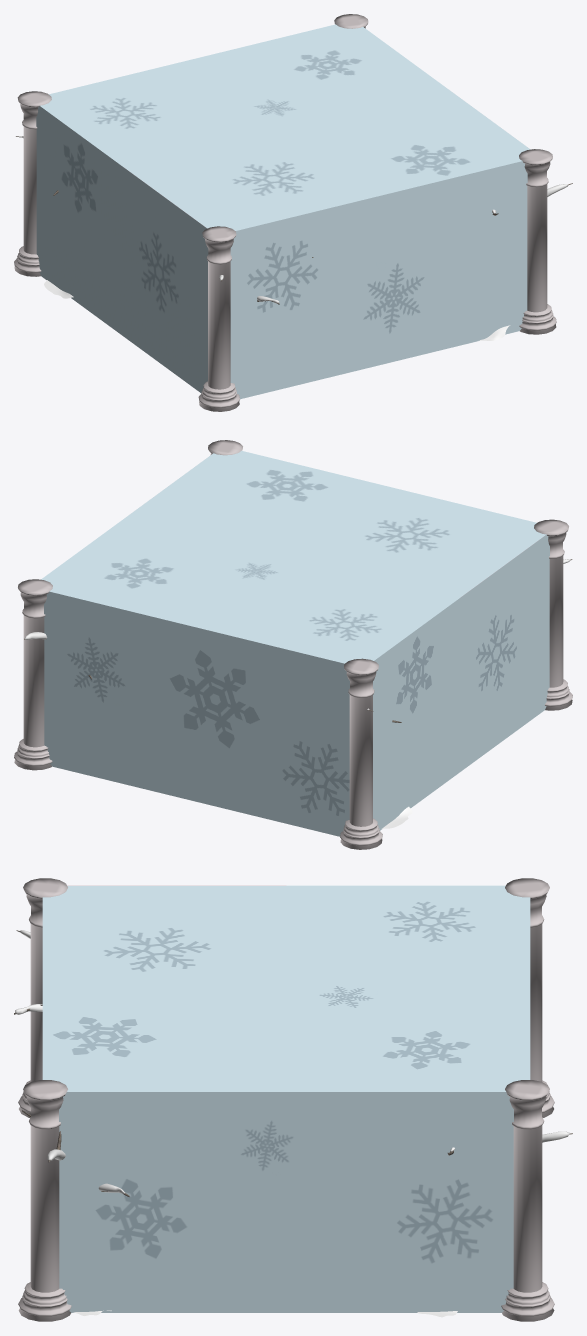
The model's file is winterroom.fbx.
The picture shows the model from 3 angles, top to bottom: view 1: azimuth 30°, elevation 25°; view 2: azimuth 150°, elevation 25°; view 3: azimuth 270°, elevation 25°; orthographic projection. The views are drawn at different scales.
Visible parts, largest first — view 1: stage.001; view 2: stage.001; view 3: stage.001.
Boxes of the visible parts, x1,y1,x2,y2 form: stage.001: [14, 14, 556, 411]; stage.001: [14, 440, 572, 849]; stage.001: [18, 878, 554, 1321].
Bounding box in the file's own units: 922 × 412 × 917.
